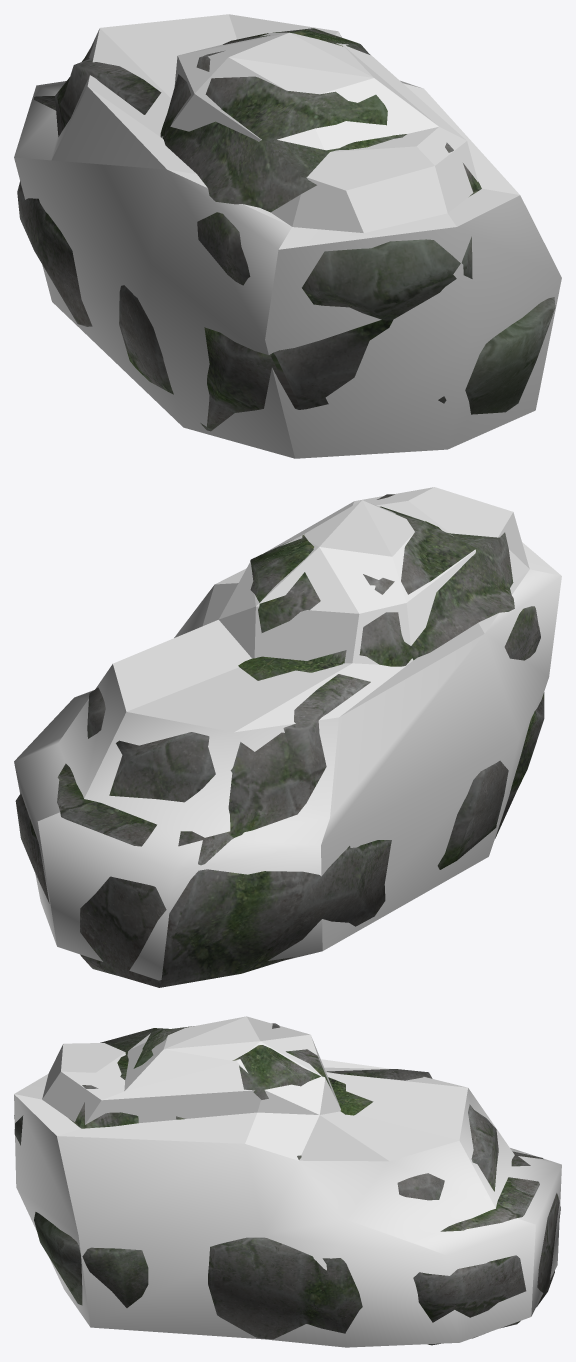
Rendered from Scene_Rock_HeBianShi_2b.FBX.
3 renders of one model, top to bottom at view 1: azimuth 30°, elevation 25°; view 2: azimuth 150°, elevation 25°; view 3: azimuth 270°, elevation 25°, orthographic. The views are drawn at different scales.
Visible parts, largest first — view 1: Scene_Rock_HeBianShi_2b_Xzm, Scene_Rock_HeBianShi_2b; view 2: Scene_Rock_HeBianShi_2b_Xzm, Scene_Rock_HeBianShi_2b; view 3: Scene_Rock_HeBianShi_2b_Xzm, Scene_Rock_HeBianShi_2b.
Boxes of the visible parts, bbox=[...] form: Scene_Rock_HeBianShi_2b_Xzm: bbox=[14, 14, 561, 458]; Scene_Rock_HeBianShi_2b: bbox=[17, 28, 555, 431]; Scene_Rock_HeBianShi_2b_Xzm: bbox=[14, 487, 561, 980]; Scene_Rock_HeBianShi_2b: bbox=[15, 494, 544, 987]; Scene_Rock_HeBianShi_2b_Xzm: bbox=[14, 1016, 561, 1347]; Scene_Rock_HeBianShi_2b: bbox=[14, 1023, 560, 1345].
Bounding box in the file's own units: 772 × 726 × 1270.
